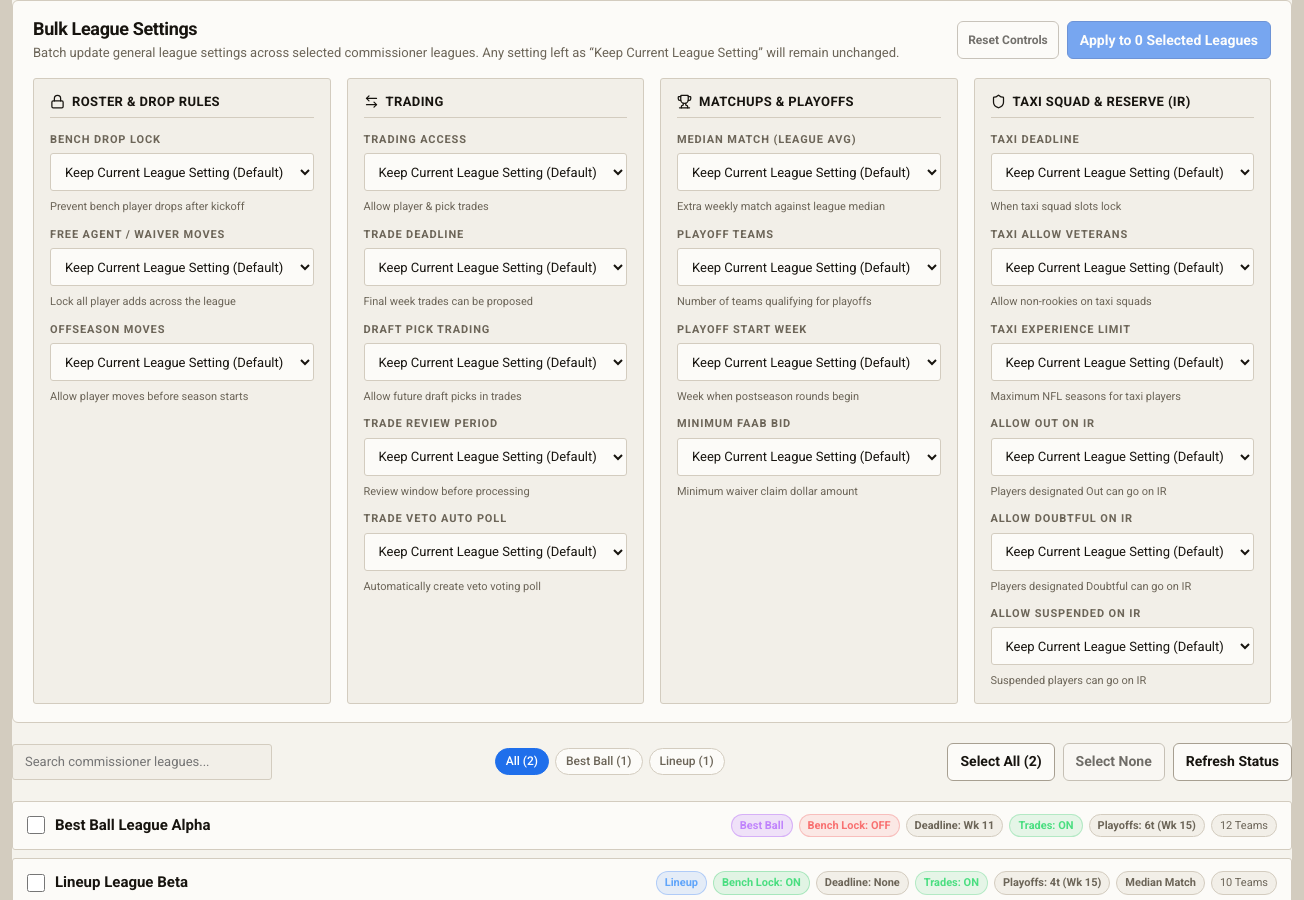
Test: CommissionerSettingsTab › filters leagues with search input and type pills
Note: Filter to Best Ball only
What coordinates should you click on to do the following:
click the button "Best Ball (1)"
I would click on:
 (599, 762)
Its box is [555,748,642,775].
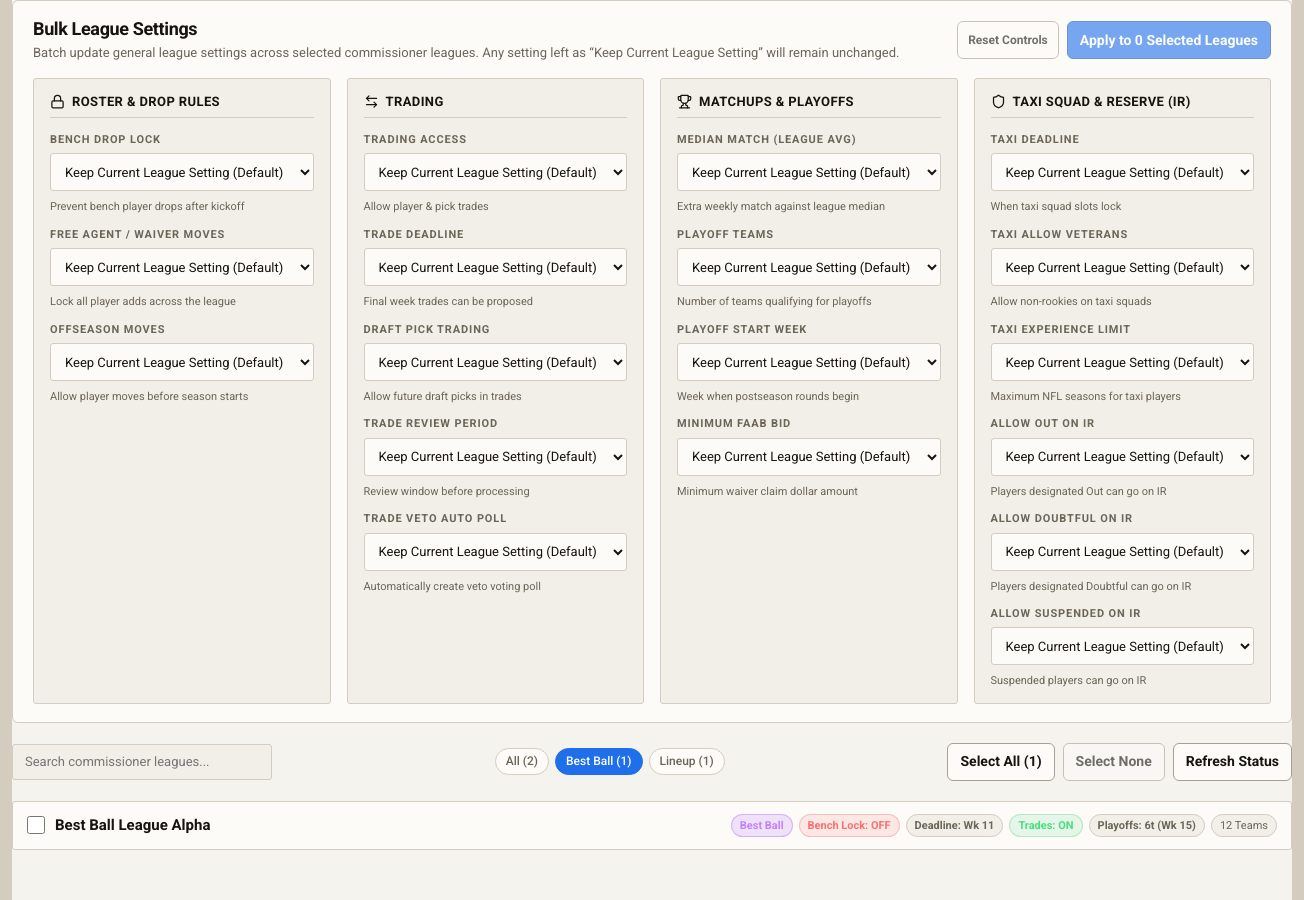
Expected: the text "Best Ball League Alpha" is shown, [55,815,210,836]
Now the text "Lineup League Beta" is gone
Note: Filter to Lineup only
What coordinates should you click on to do the following:
click the button "Lineup (1)"
I would click on:
 (687, 762)
Its box is [648,748,725,775].
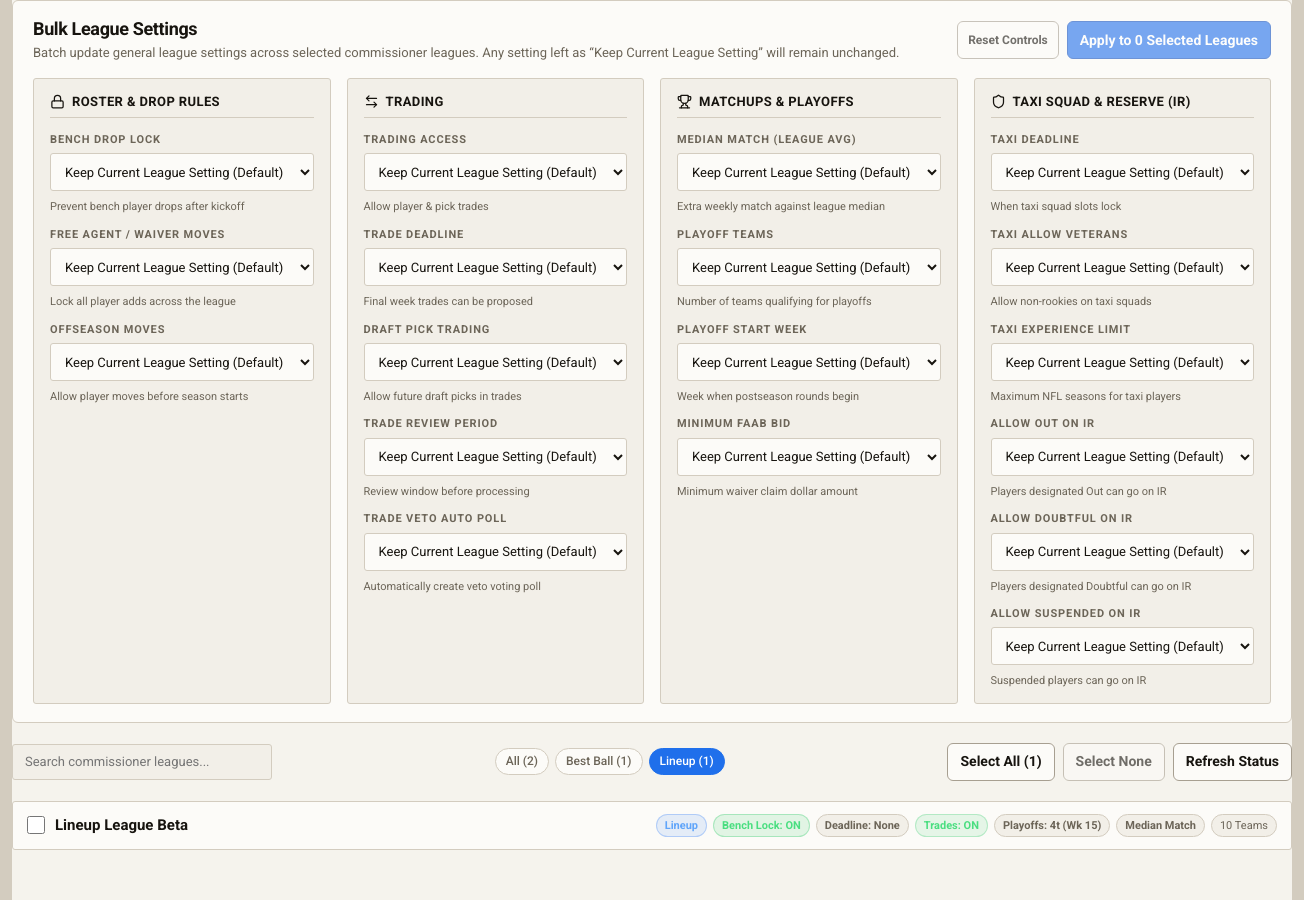
Now the text "Best Ball League Alpha" is gone
Now the text "Lineup League Beta" is shown, box [55,815,188,836]
